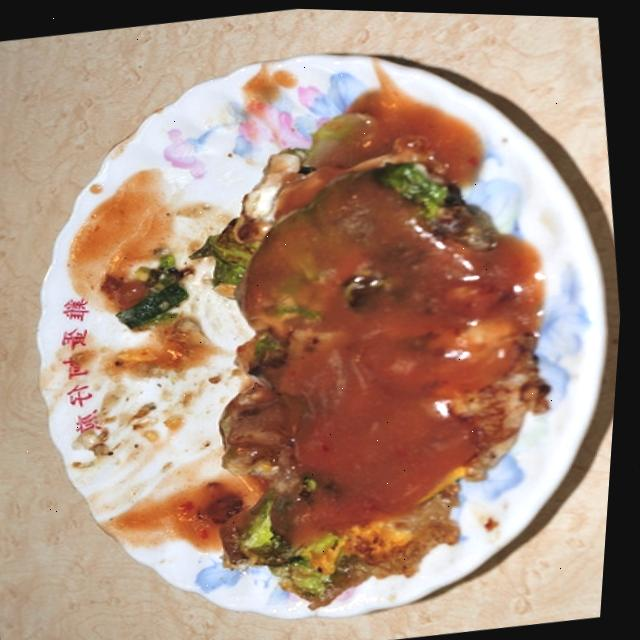熟制海鲜: (31, 58, 637, 630)
